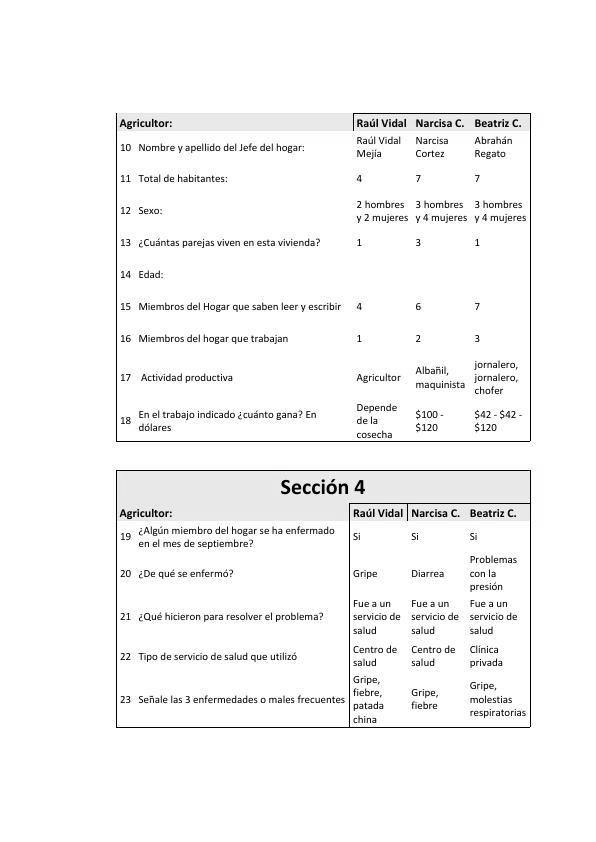table: (111, 109, 535, 447), (110, 465, 535, 734)
